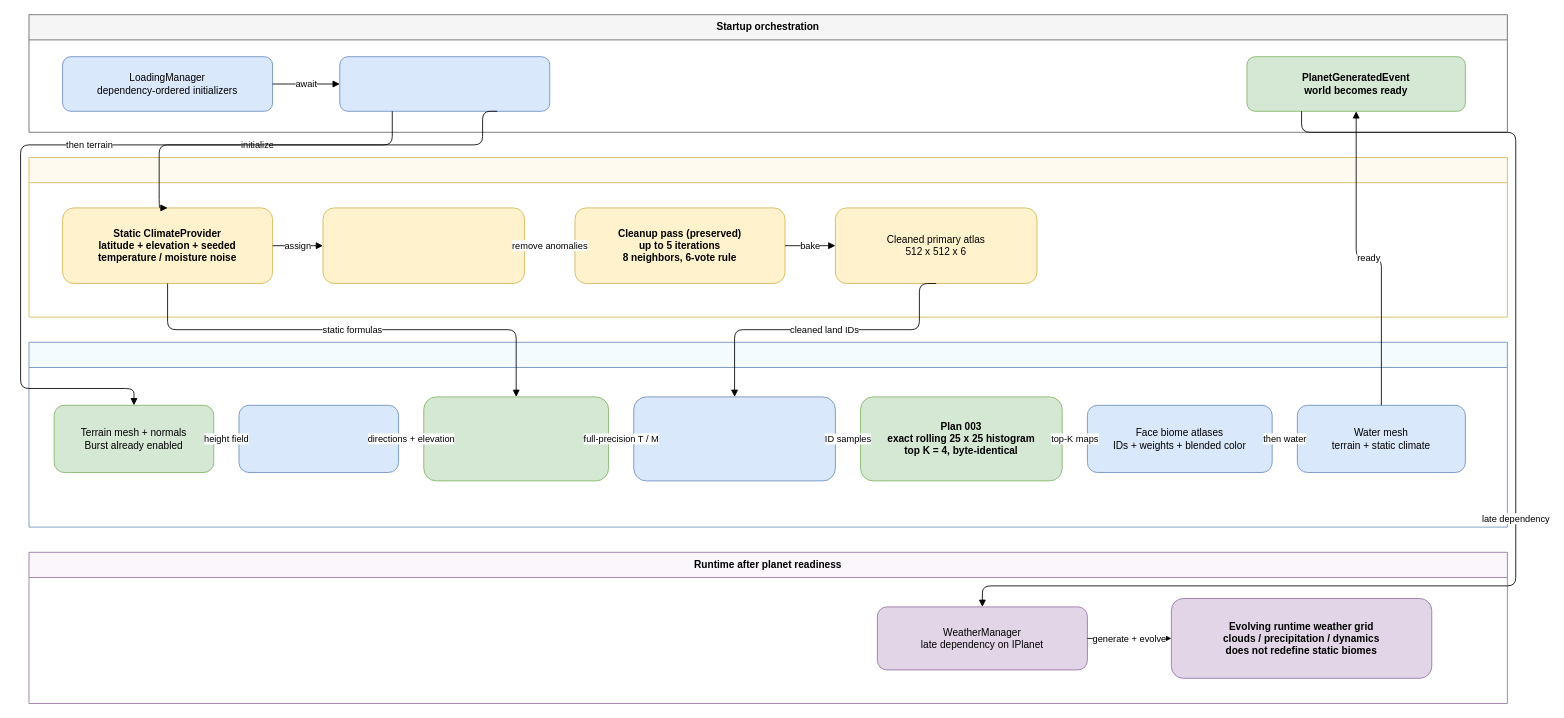
This 1564x718 diagram has some shape labels left out. The box of each missing label's shape, as (x1, y1, x2, y2) in pixels:
Lake mask ocean / lake / shore: (238, 404, 399, 472)
Leaf high-res ID grid cleaned land + lake / elevation overrides: (633, 396, 835, 481)
Plan 002 Burst climate vertex bake full precision retained: (423, 396, 609, 481)
Planet generation hot path: (28, 341, 1507, 527)
Planet.InitializeAsync settings + seeded providers: (339, 56, 550, 111)
Static biome authority (preserved and deterministic for a seed): (28, 157, 1507, 317)
Voronoi seed assignment climate chooses land biome: (322, 207, 525, 284)
